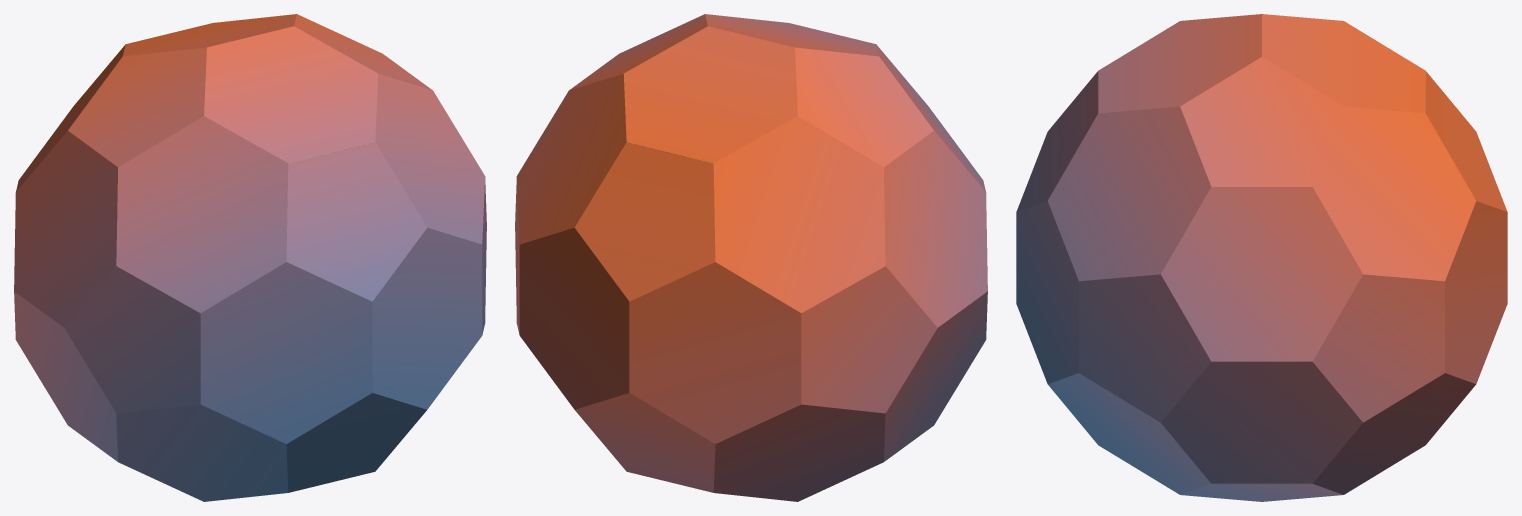
File: Truncated Icosahedron.glb
3 renders of one model, left to right at view 1: azimuth 30°, elevation 25°; view 2: azimuth 150°, elevation 25°; view 3: azimuth 270°, elevation 25°, orthographic.
Visible parts, largest first — view 1: Truncated Icosahedron; view 2: Truncated Icosahedron; view 3: Truncated Icosahedron.
Part boxes in pixels (<box>): Truncated Icosahedron: <box>14,14,486,501</box>; Truncated Icosahedron: <box>515,14,987,501</box>; Truncated Icosahedron: <box>1016,14,1507,501</box>.
Size of the model in its own units: 1.7 by 1.7 by 1.7.
Materials: 1 (1 with a texture image).
